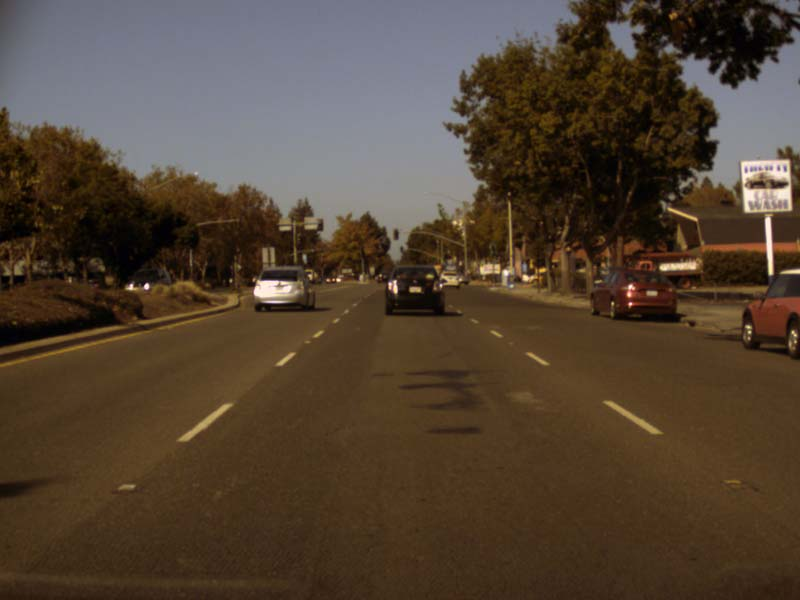Green: (490, 245, 495, 254)
